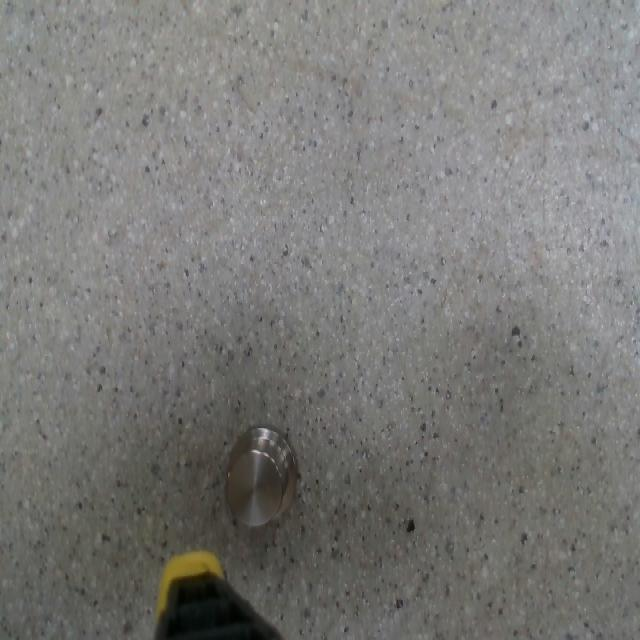sensor: (224, 425, 299, 529)
